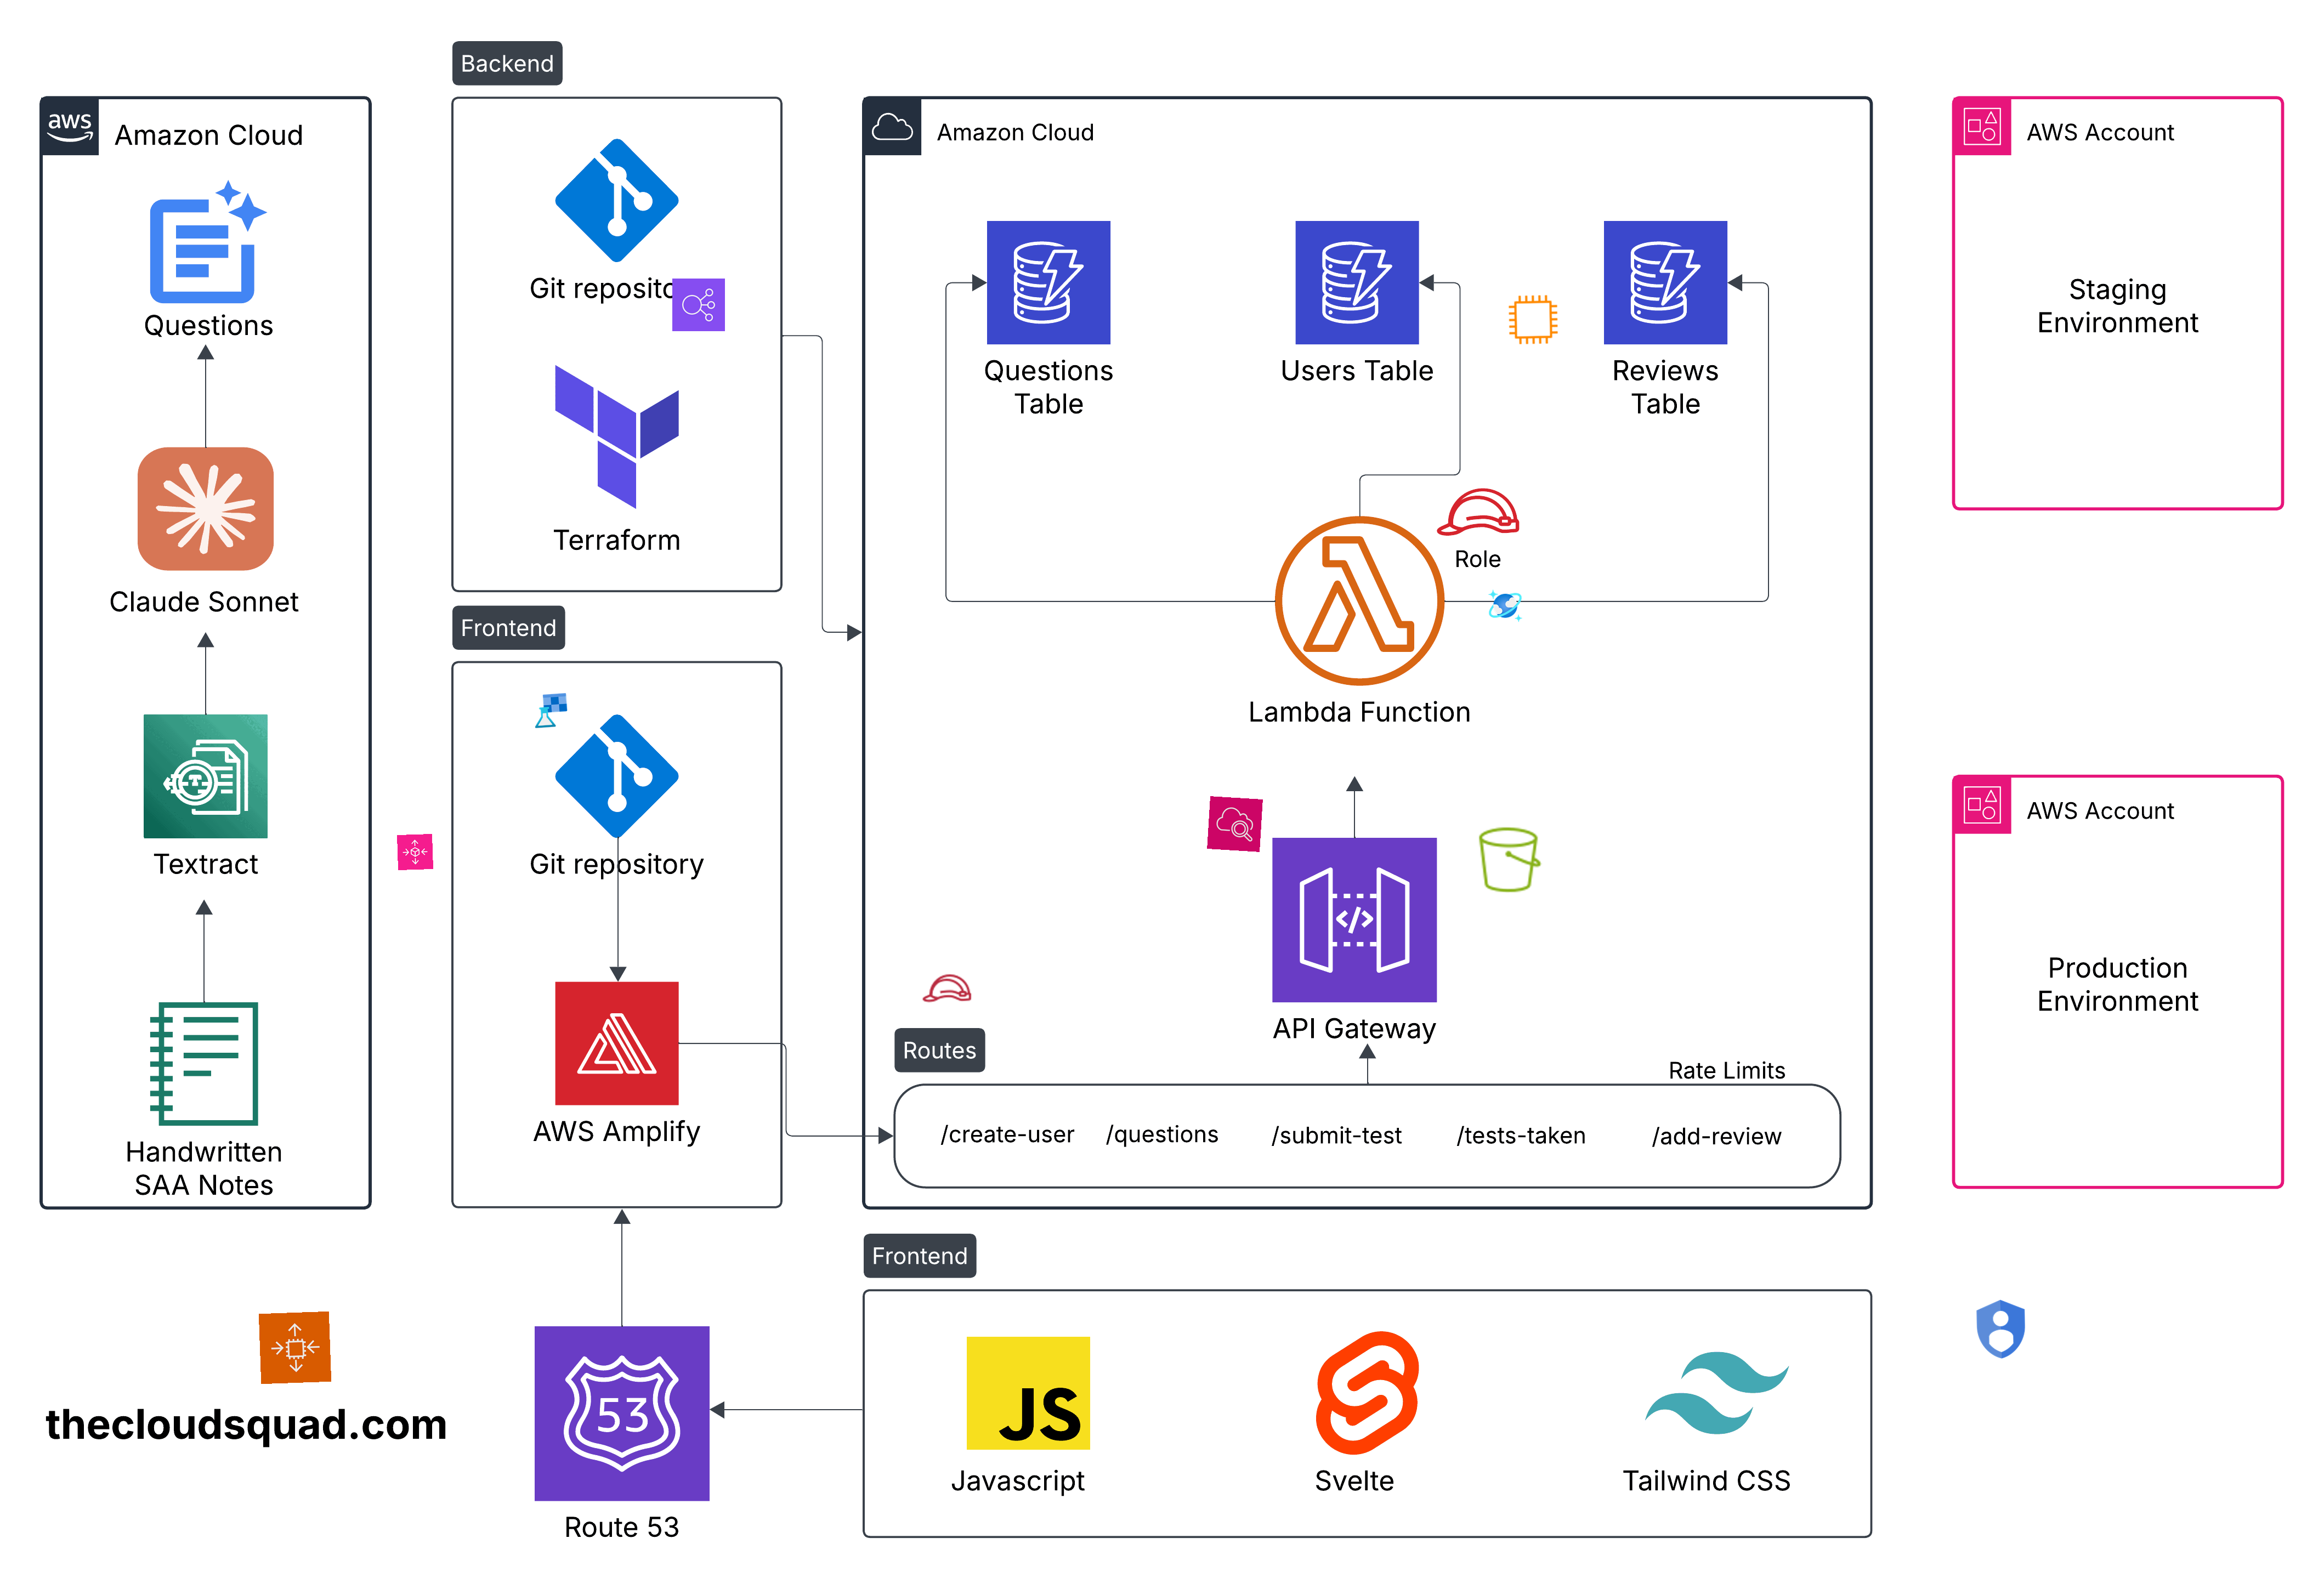aws_amazon_cloudwatch: (1208, 796, 1262, 852)
aws_amazon_ec2_auto_scaling: (259, 1310, 331, 1384)
aws_auto_scaling: (396, 833, 433, 870)
aws_ec2_instance: (1507, 292, 1560, 347)
aws_elastic_load_balancing: (673, 278, 725, 331)
aws_identity_access_management_role: (921, 962, 974, 1016)
aws_simple_storage_service_s3_standard: (1474, 824, 1546, 895)
azure_cosmos_db: (1486, 586, 1525, 625)
azure_machine_learning_studio_workspaces: (532, 692, 570, 729)
gcp_identity_and_access_management: (1965, 1293, 2037, 1365)
